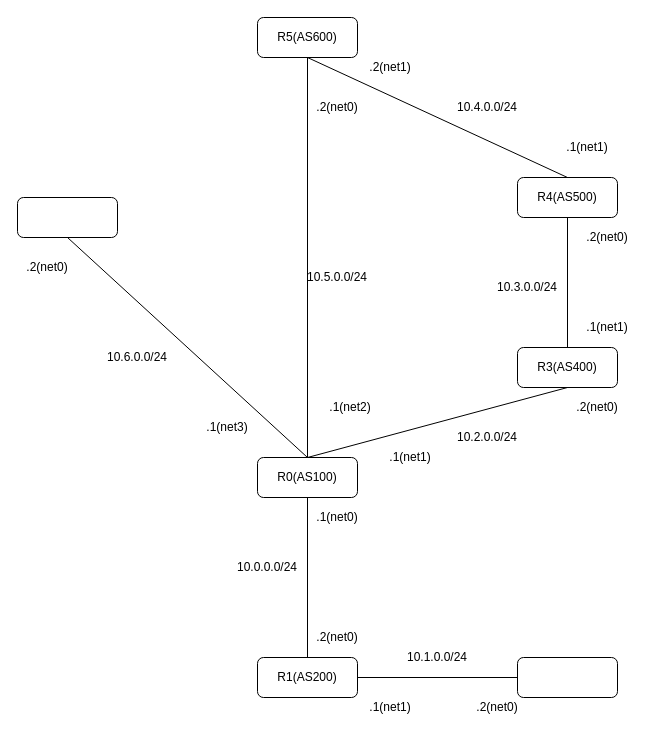
Image size: 645x735. Some labels were removed from this diagram. The shapes that lost their labels are listed below. From the top down, each one's centre as x and y in pixels, then its label:
At pixel 67 217: "R6(AS700)".
At pixel 567 677: "R2(AS300)".
